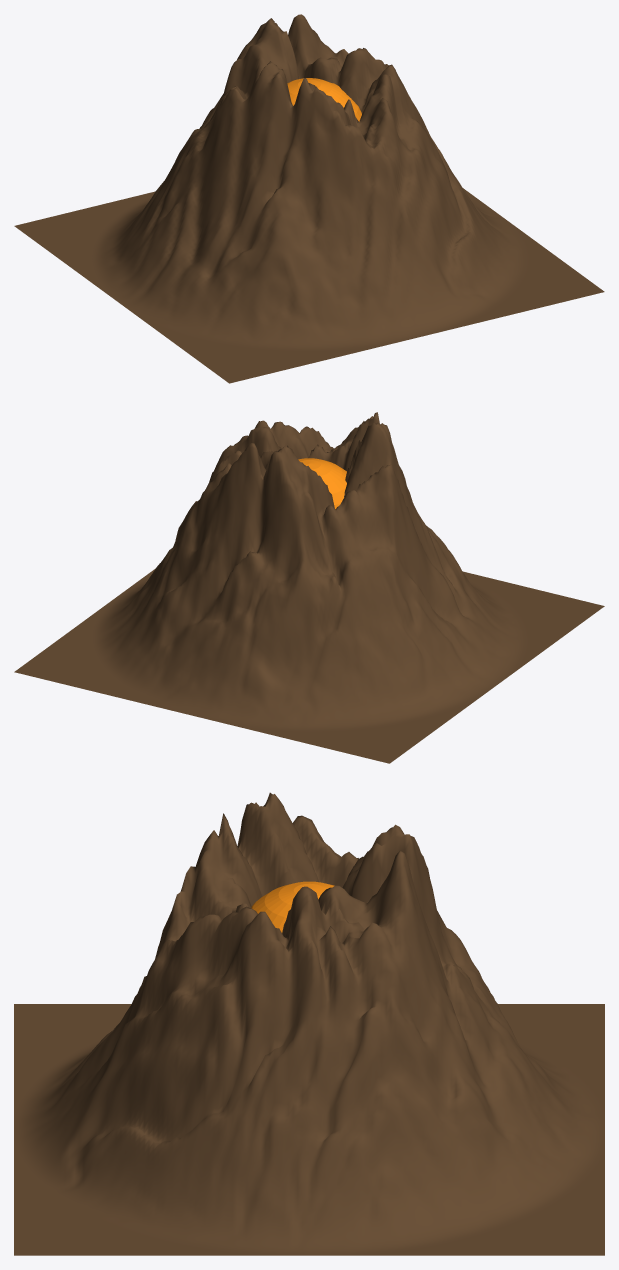
File: volcano.fbx
The picture shows the model from 3 angles, top to bottom: view 1: azimuth 30°, elevation 25°; view 2: azimuth 150°, elevation 25°; view 3: azimuth 270°, elevation 25°; orthographic projection. The views are drawn at different scales.
Visible parts, largest first — view 1: Landscape, Sphere; view 2: Landscape, Sphere; view 3: Landscape, Sphere.
Boxes of the visible parts, box(x1,y1,x2,y2) form: Landscape: box(14, 14, 604, 383); Sphere: box(287, 78, 361, 121); Landscape: box(14, 412, 604, 763); Sphere: box(298, 458, 346, 509); Landscape: box(14, 792, 604, 1255); Sphere: box(251, 881, 334, 932).
Bounding box in the file's own units: 406 × 227 × 403.
